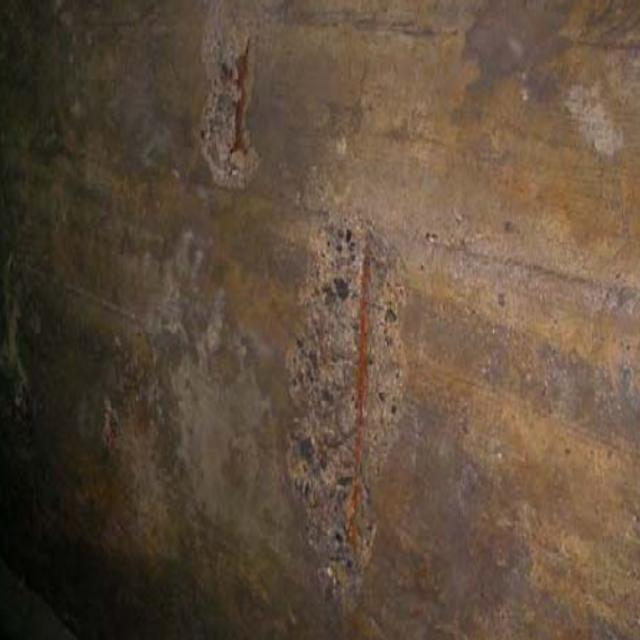spalling: (284, 217, 413, 610), (182, 18, 277, 202)
